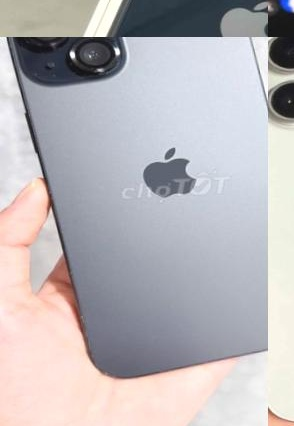scratch: (72, 310, 120, 385)
